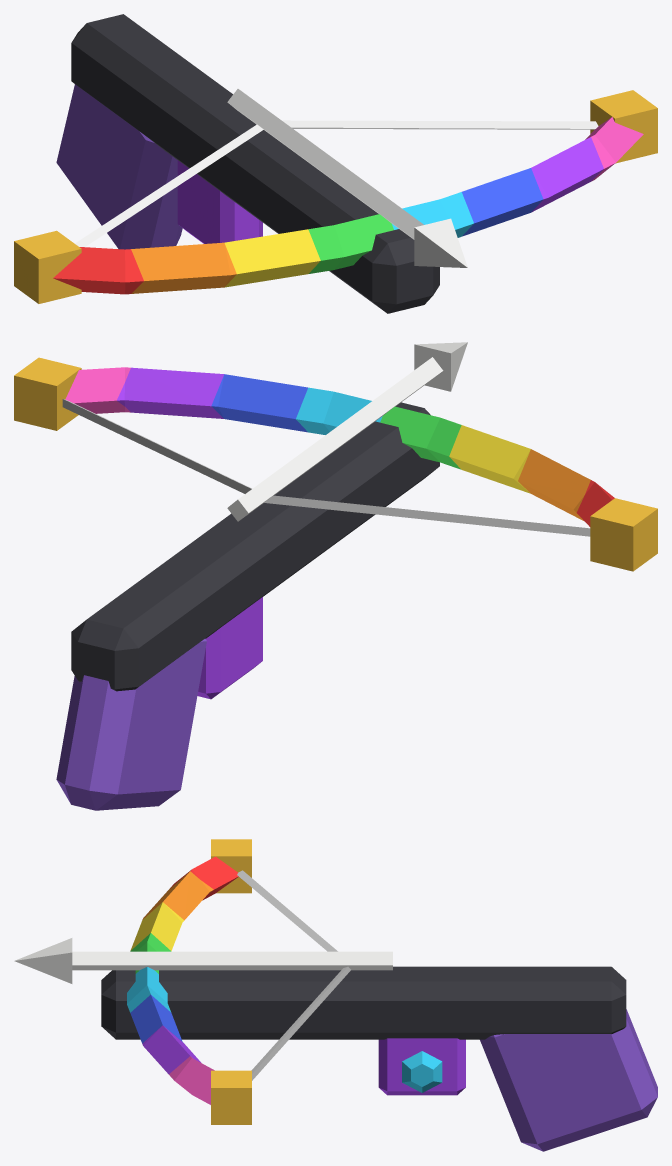
File: RainbowCrossbow.fbx
3 renders of one model, top to bottom at view 1: azimuth 30°, elevation 25°; view 2: azimuth 150°, elevation 25°; view 3: azimuth 270°, elevation 25°, orthographic. The views are drawn at different scales.
Visible parts, largest first — view 1: RainbowCrossbow; view 2: RainbowCrossbow; view 3: RainbowCrossbow.
Part boxes in pixels (bbox=[...]): RainbowCrossbow: bbox=[14, 14, 657, 313]; RainbowCrossbow: bbox=[14, 342, 657, 810]; RainbowCrossbow: bbox=[14, 839, 657, 1151].
Size of the model in its own units: 2.02 by 0.7634 by 2.21.
1 material, 1 textured.
